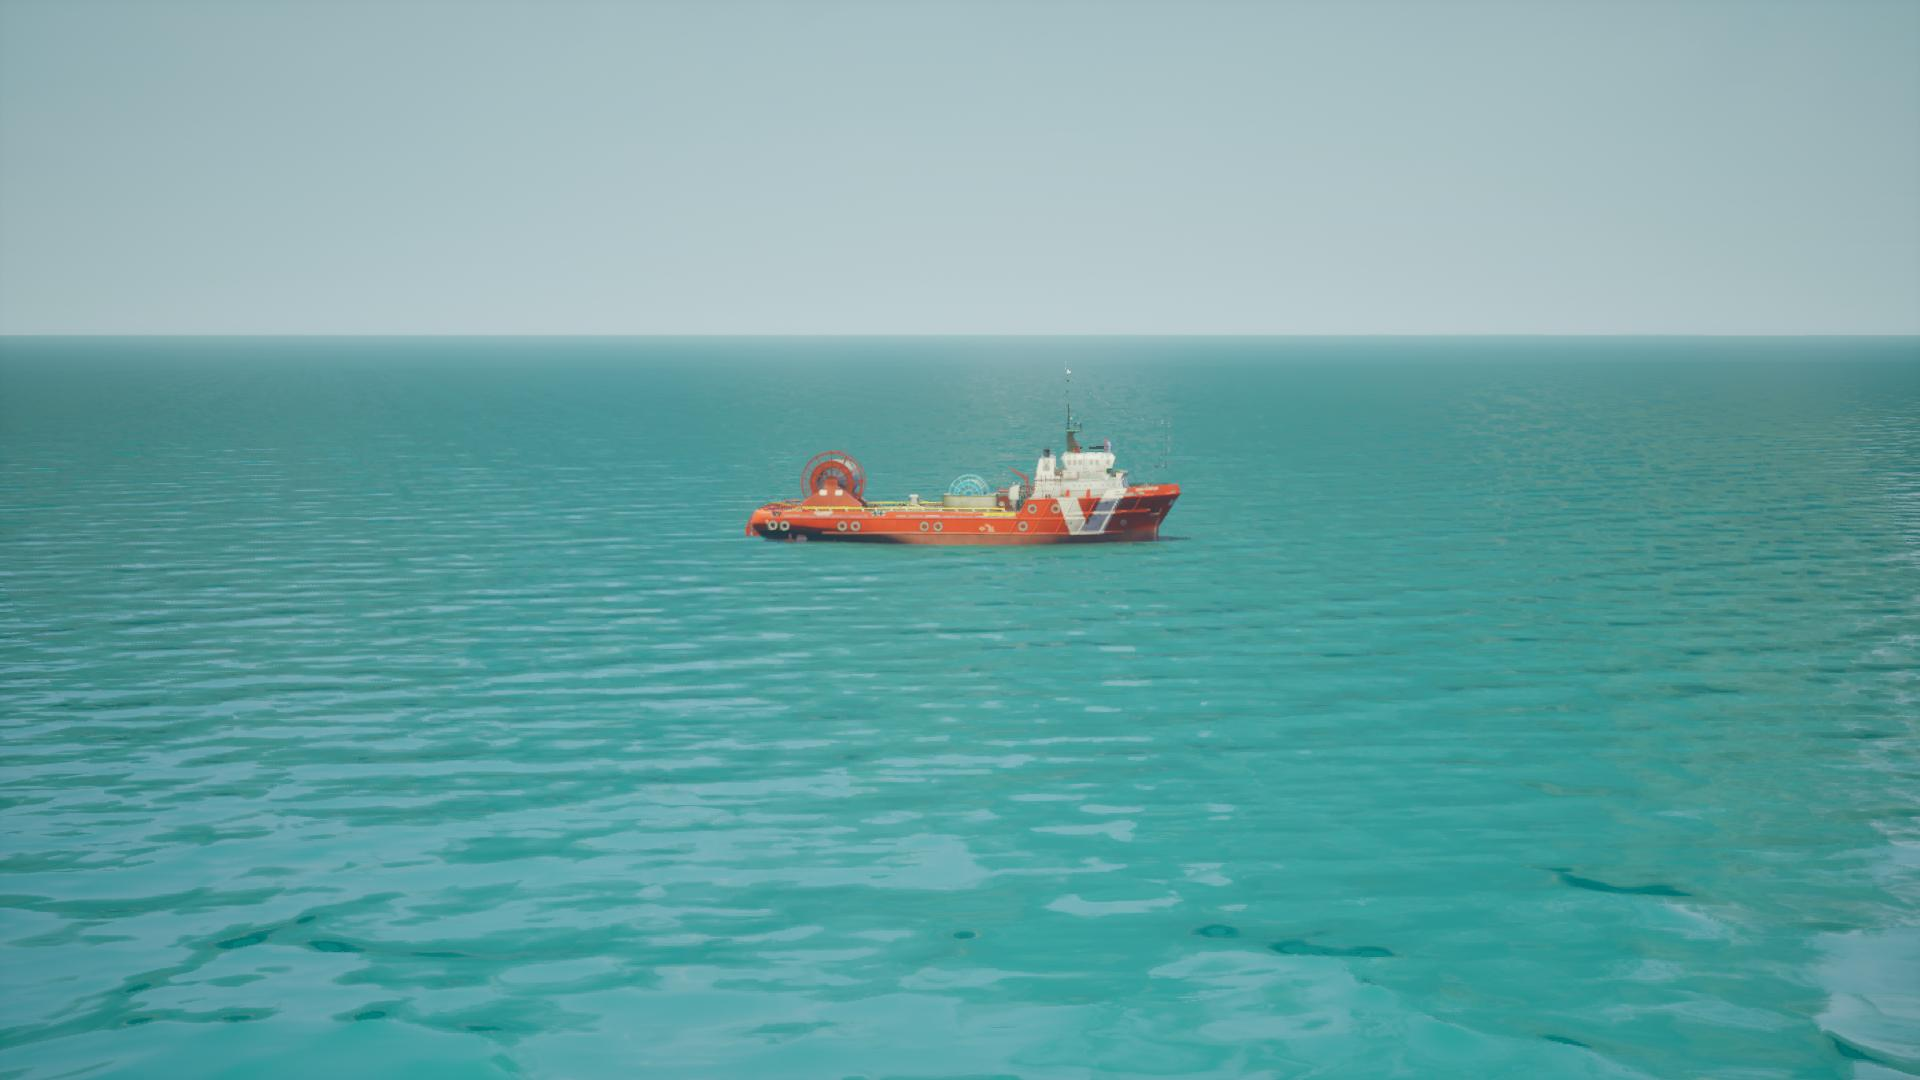Tug Boat: (740, 359, 1188, 547)
